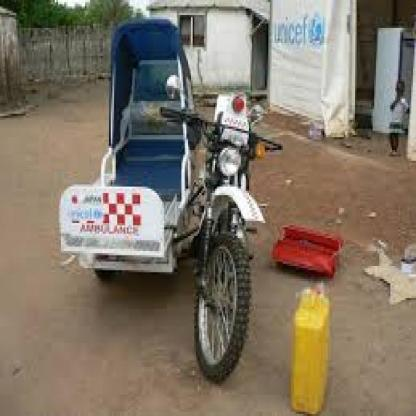priority: (59, 17, 281, 382)
